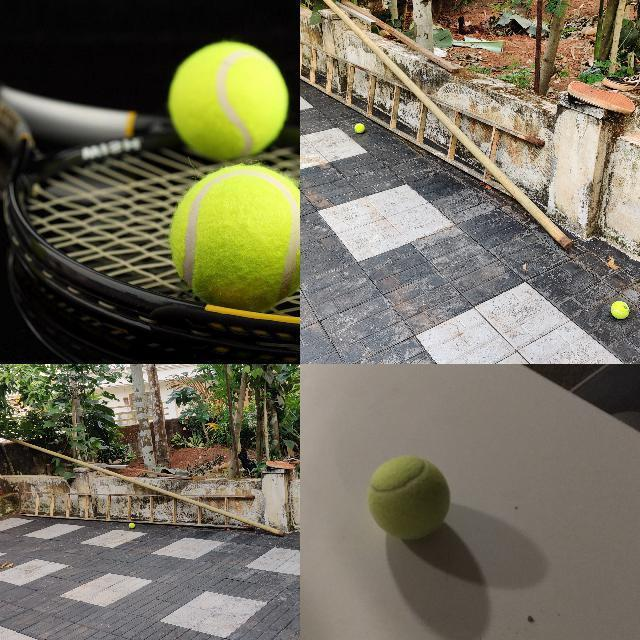tennis-ball: (168, 162, 299, 312), (166, 40, 289, 158), (365, 455, 451, 541), (610, 301, 630, 319), (354, 123, 364, 133), (128, 522, 134, 528)
